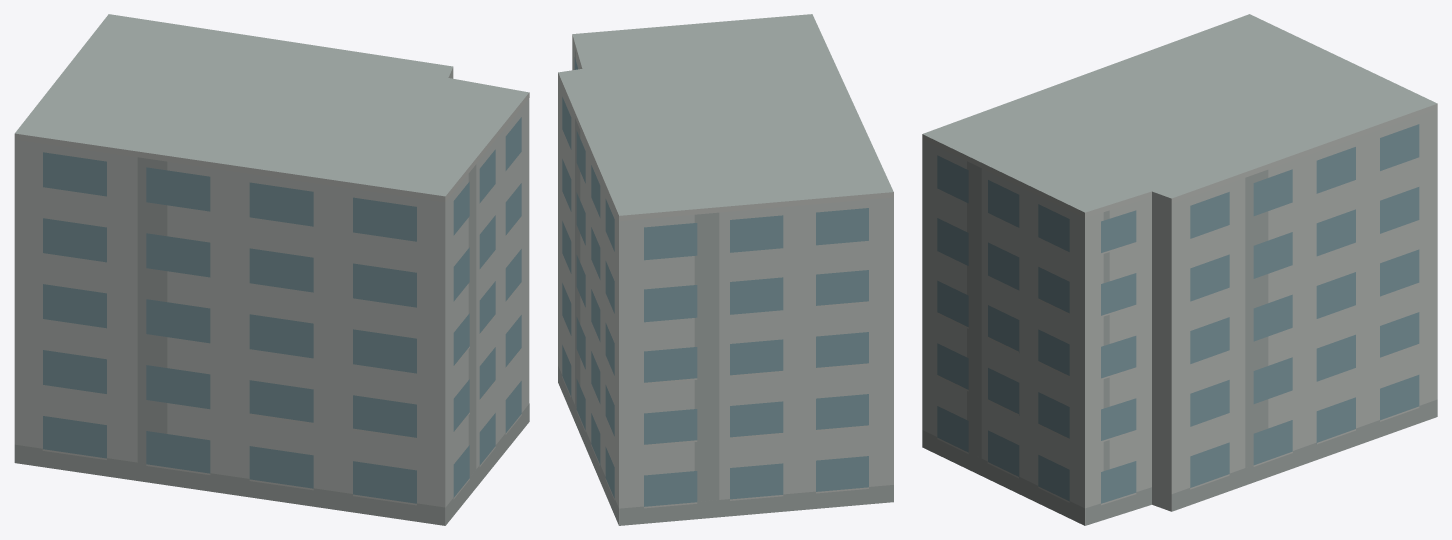
File: survey-upis-32792024.glb
3 renders of one model, left to right at view 1: azimuth 30°, elevation 25°; view 2: azimuth 150°, elevation 25°; view 3: azimuth 270°, elevation 25°, orthographic. The views are drawn at different scales.
Parts seen in each view (by area): view 1: survey-upis-32792024.tmp; view 2: survey-upis-32792024.tmp; view 3: survey-upis-32792024.tmp.
Boxes of the visible parts, left/top/right/bottom form: survey-upis-32792024.tmp: left=14, top=14, right=529, bottom=525; survey-upis-32792024.tmp: left=558, top=14, right=893, bottom=525; survey-upis-32792024.tmp: left=922, top=14, right=1437, bottom=525.
Bounding box in the file's own units: 18.91 × 13.9 × 20.74.
